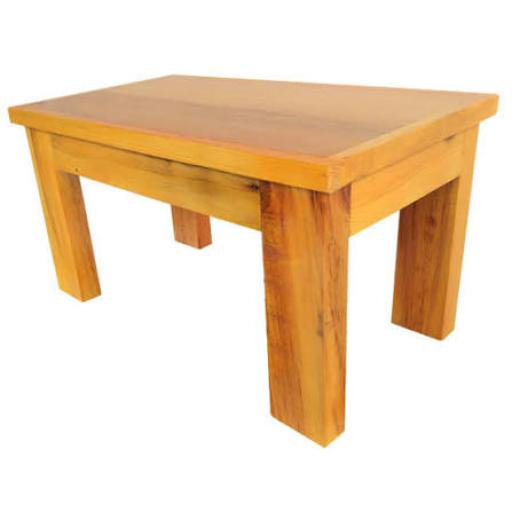jam dinding: (8, 71, 502, 449)
